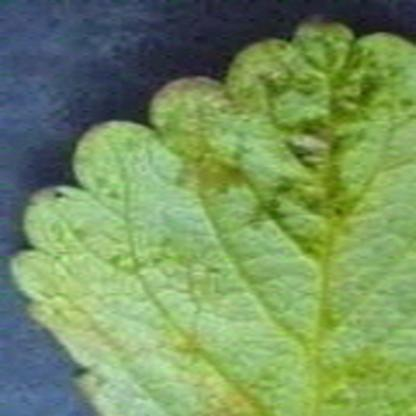Strawberry_Angular_LeafSpot: (135, 15, 415, 269)
